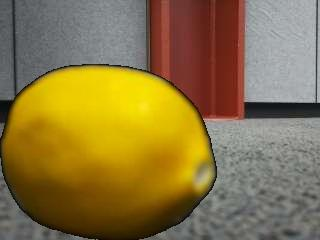lemon: (5, 65, 215, 238)
